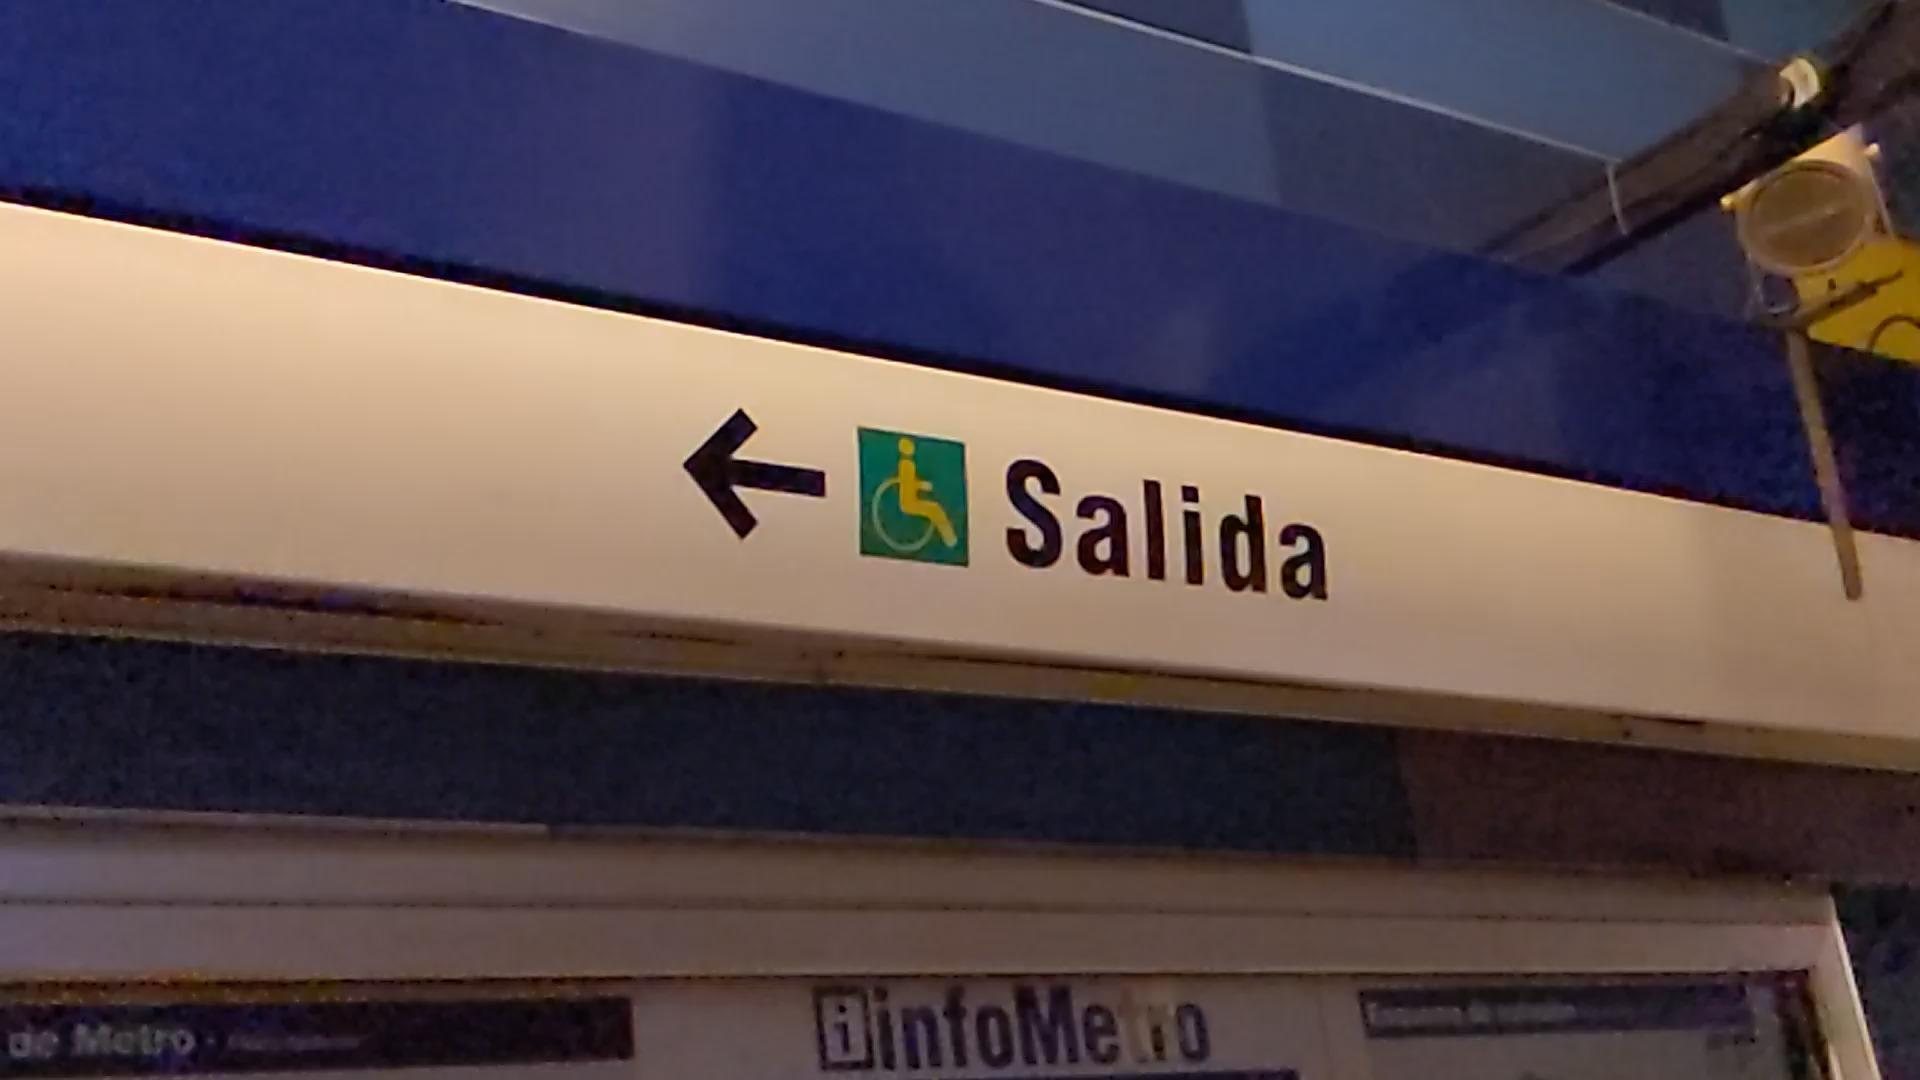handicapped symbol: (869, 438, 957, 559)
left arrow: (676, 400, 831, 547)
